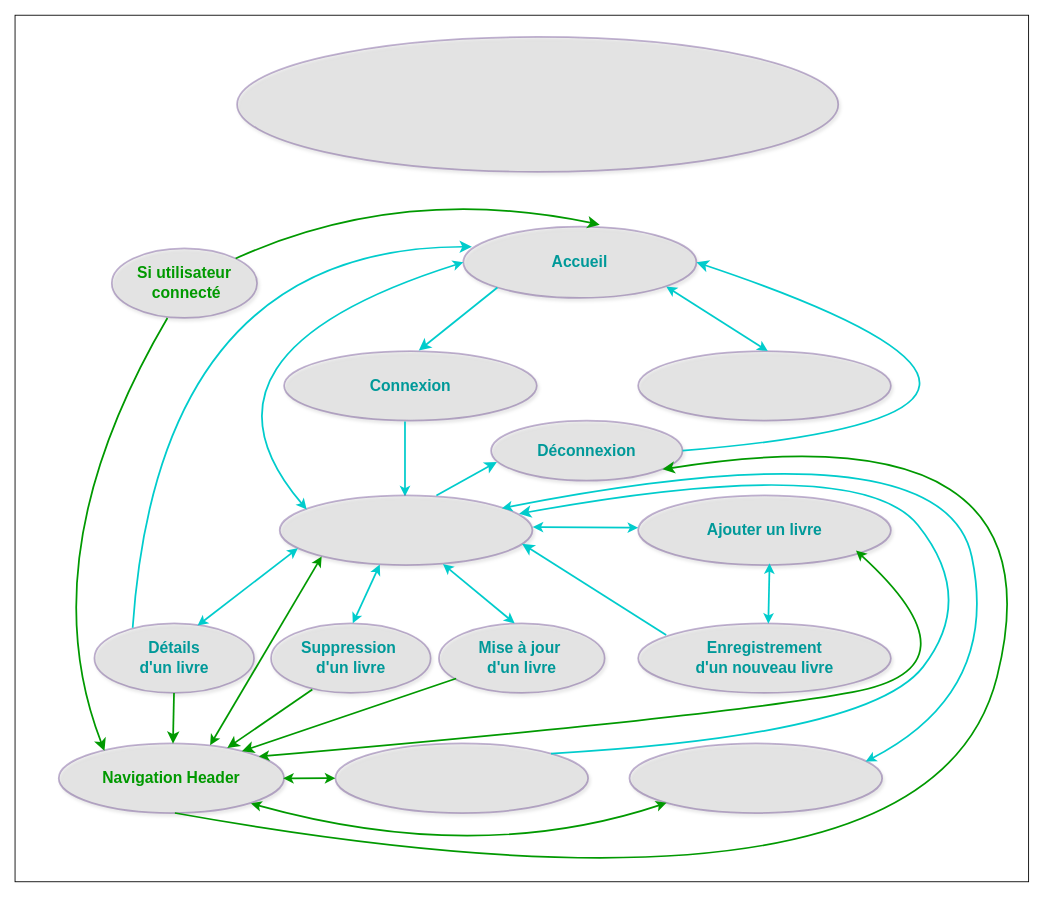
Image size: 1044x897. Some labels were removed from this diagram. The centre of each missing label's shape, as x and y in pixels:
"Diagramme fonctionnel Bibliothèque" belongs at point (538, 105).
"Inscription" belongs at point (765, 386).
"Liste des Livres" belongs at point (406, 531).
"Profil de l'utilisateur" belongs at point (462, 779).
"Rechercher un livre Par titre ou nom de l'auteur" belongs at point (756, 779).
